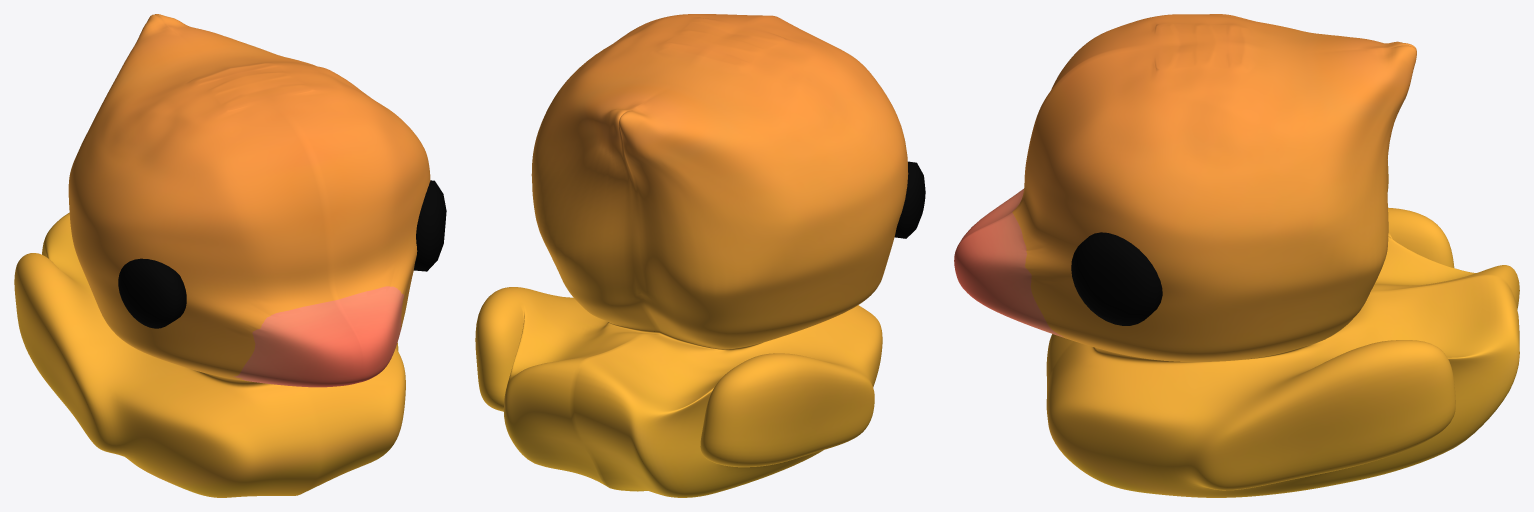
The model's file is RubberDuck.fbx.
3 views of the same model, side by side, from view 1: azimuth 30°, elevation 25°; view 2: azimuth 150°, elevation 25°; view 3: azimuth 270°, elevation 25° (orthographic). The views are drawn at different scales.
Parts seen in each view (by area): view 1: Ducky; view 2: Ducky; view 3: Ducky.
Boxes of the visible parts, box(x1,y1,x2,y2) form: Ducky: box(14, 14, 446, 497); Ducky: box(475, 14, 925, 497); Ducky: box(954, 14, 1519, 497).
Bounding box in the file's own units: 91.77 × 106 × 127.
